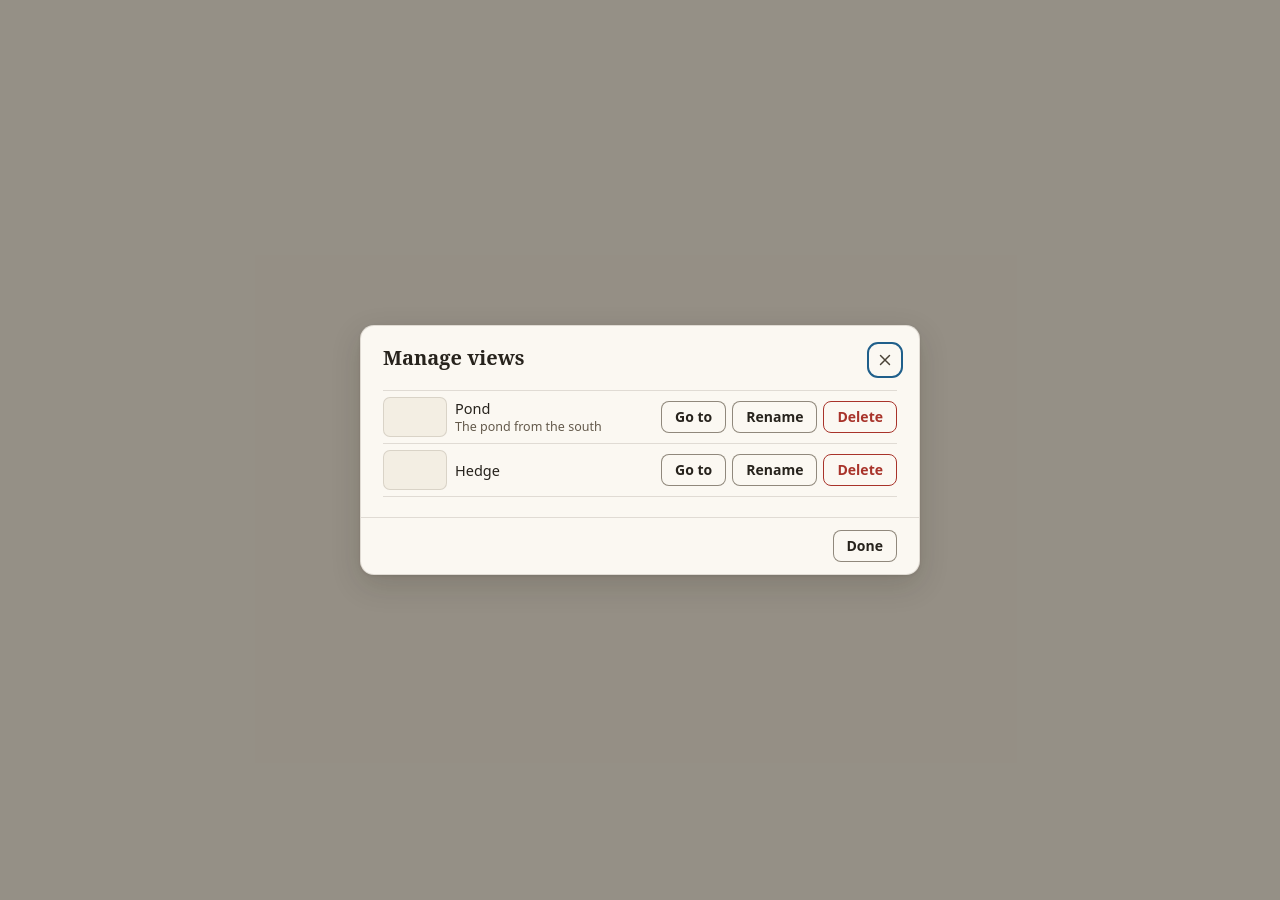
Test: saved view dialogs › asks before deleting a view that stories show, naming them
Click the button "Delete" in the row of "The pond from the south". click: [860, 417]
box: top-left (824, 401), bottom-right (897, 433)
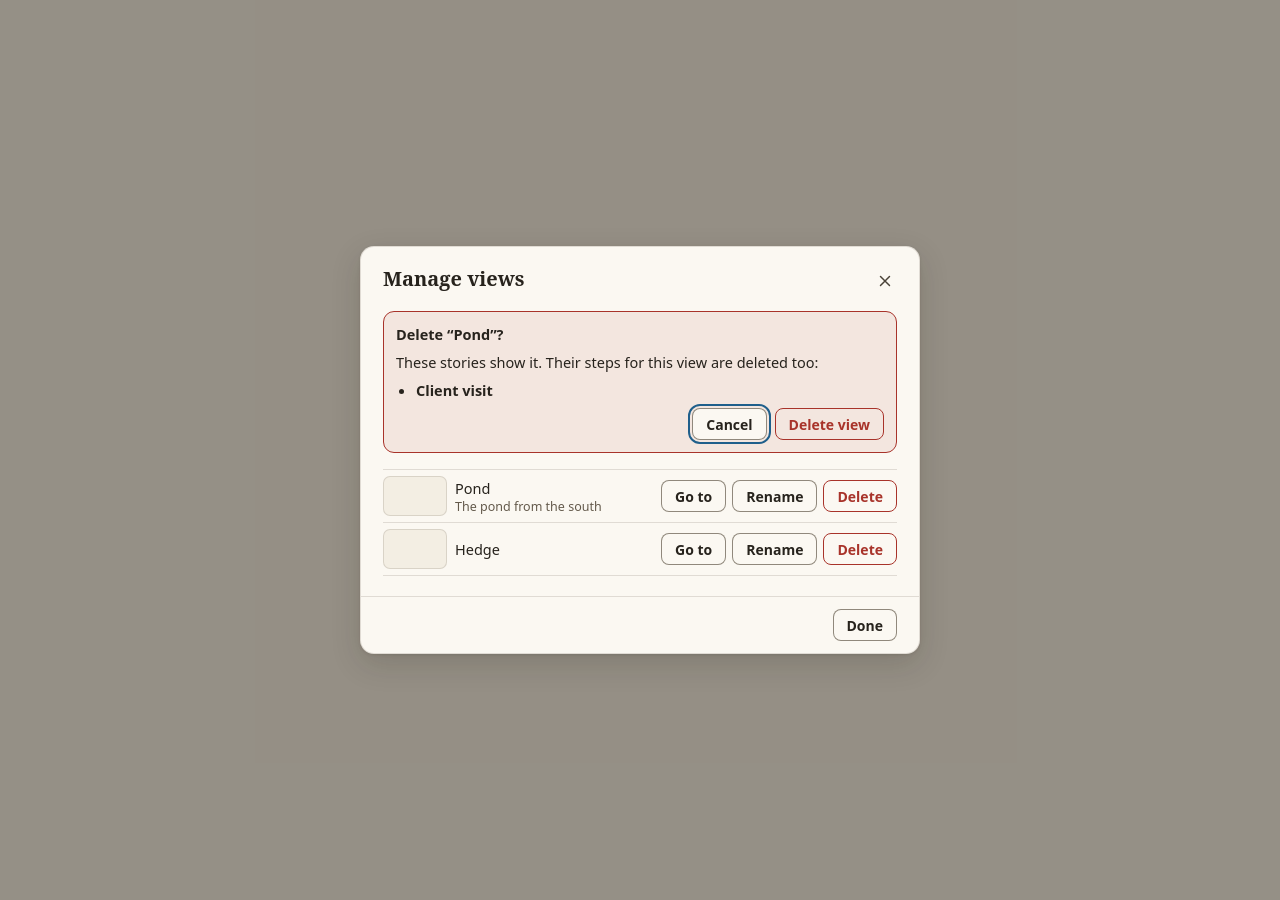
Result: the dialog shows "Delete “Pond”?" at top-left (396, 324), bottom-right (504, 344)
Result: the dialog shows "Client visit" at top-left (416, 380), bottom-right (493, 400)
Click the button "Delete view". click: [829, 424]
box: top-left (775, 408), bottom-right (884, 440)
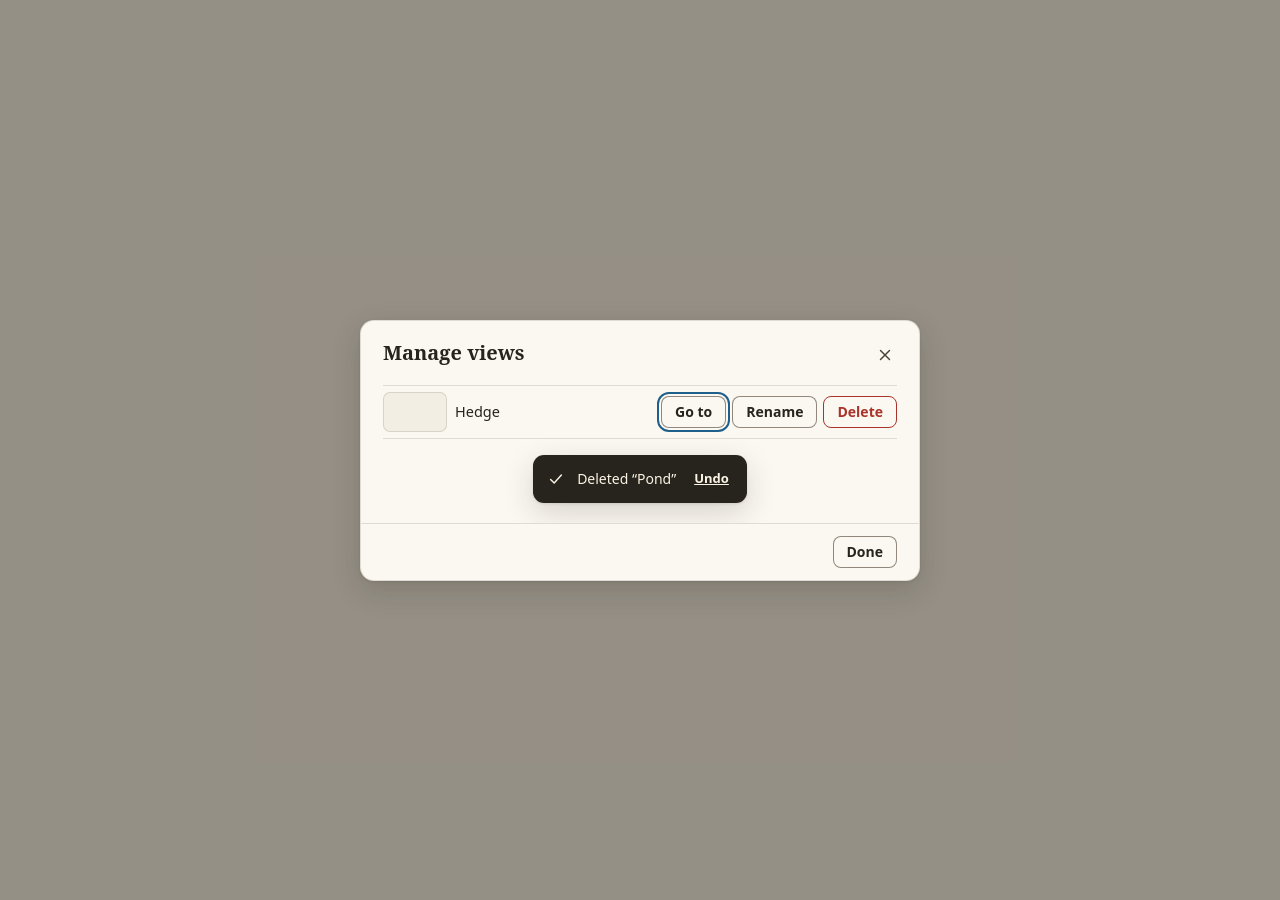
Result: the dialog is gone
